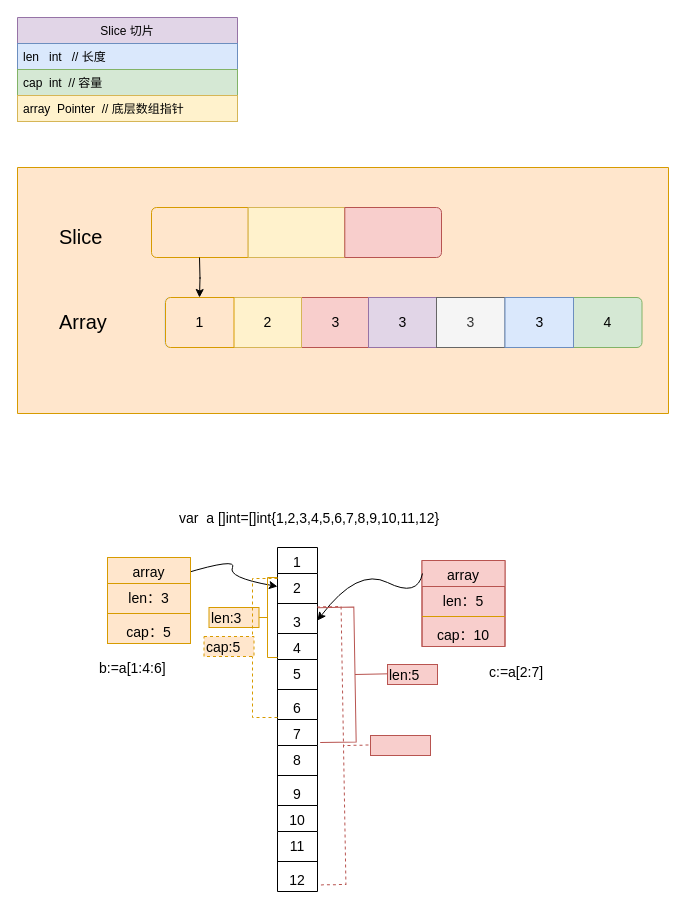
The diagram is 686 pixels wide and 912 high, and some of its shapes have lost their labels. Here are the shapes that lost their labels. From the top down, the centre of each, then its label:
the point at 199,232: Array Pointer
the point at 296,232: Len int
the point at 393,232: Cap int
the point at 400,745: cap:10
